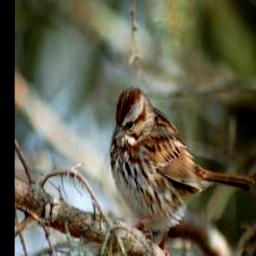Sparrow: (108, 81, 256, 256)
